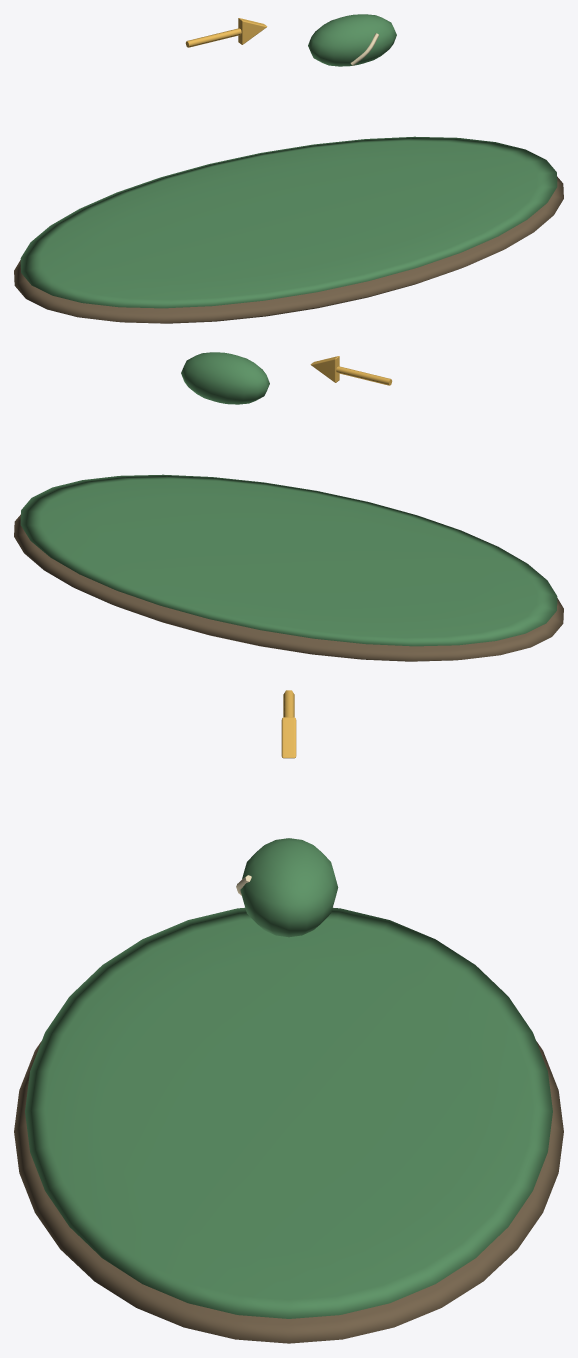
Rendered from short-arrow.glb.
The picture shows the model from 3 angles, top to bottom: view 1: azimuth 30°, elevation 25°; view 2: azimuth 150°, elevation 25°; view 3: azimuth 270°, elevation 25°; orthographic projection. The views are drawn at different scales.
Parts seen in each view (by area): view 1: short-arrow_surface_01, short-arrow_surface_00, short-arrow_surface_02; view 2: short-arrow_surface_01, short-arrow_surface_00, short-arrow_surface_02; view 3: short-arrow_surface_01, short-arrow_surface_00, short-arrow_surface_02.
Part boxes in pixels (box(x1,y1,x2,y2)): short-arrow_surface_01: box(20, 14, 557, 308); short-arrow_surface_00: box(14, 176, 563, 323); short-arrow_surface_02: box(185, 18, 267, 47); short-arrow_surface_01: box(20, 352, 557, 646); short-arrow_surface_00: box(14, 514, 563, 661); short-arrow_surface_02: box(310, 356, 392, 385); short-arrow_surface_01: box(25, 838, 552, 1318); short-arrow_surface_00: box(14, 1041, 563, 1343); short-arrow_surface_02: box(281, 690, 296, 758).
Size of the model in its own units: 4.56 by 2.01 by 2.5.
